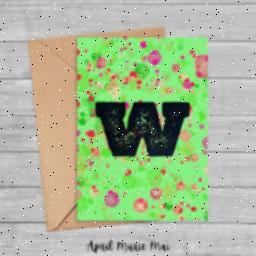w: (92, 96, 192, 162)
